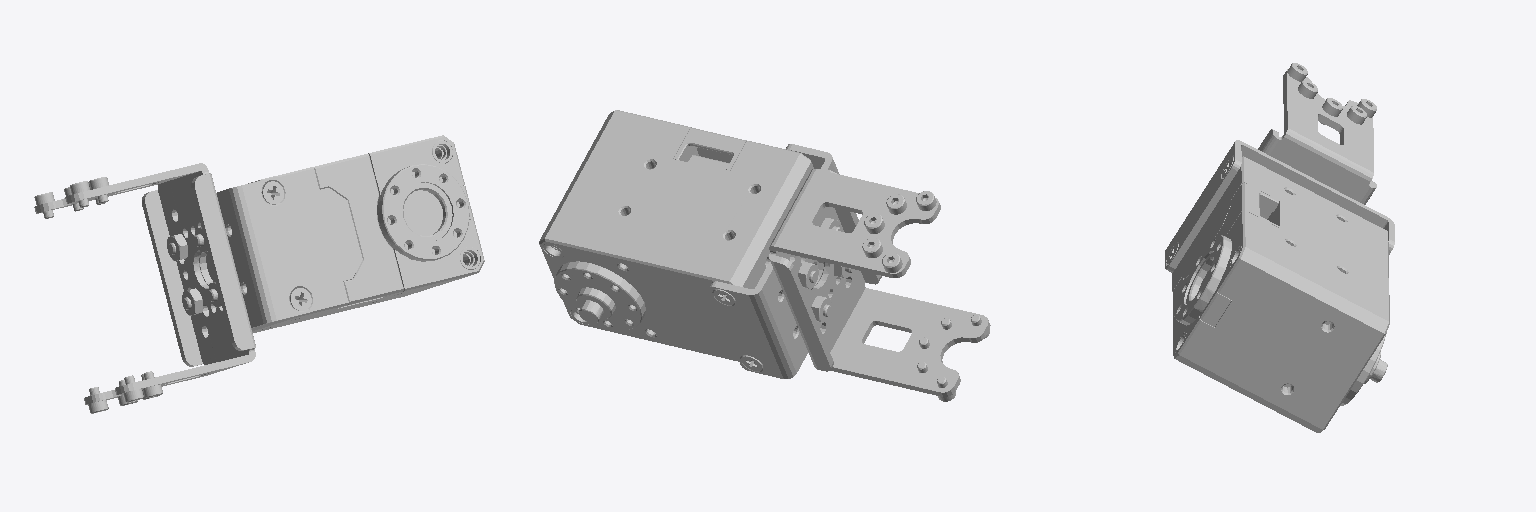
The picture shows the model from 3 angles: view 1: azimuth 30°, elevation 25°; view 2: azimuth 150°, elevation 25°; view 3: azimuth 270°, elevation 25°; orthographic projection.
Parts seen in each view (by area): view 1: off; view 2: off; view 3: off.
Part boxes in pixels (x1,y1,x2,y2): off: (34, 135, 484, 413); off: (539, 110, 990, 401); off: (1165, 63, 1394, 432).
Size of the model in its own units: 0.0825 by 0.0487 by 0.0461.